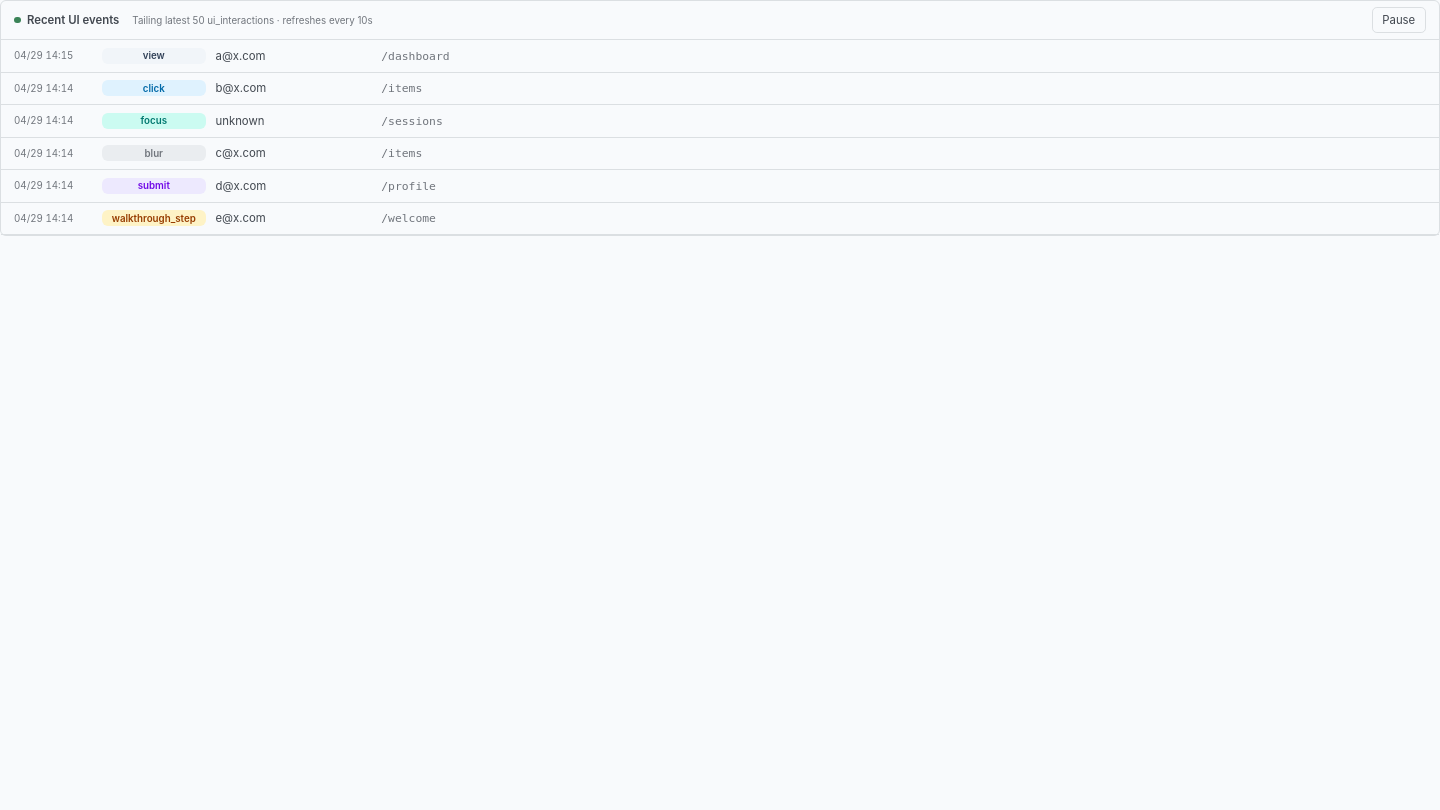
Test case: <UiRecentEventsFeed> › Test 8: row click opens PayloadViewerModal with title "UI interaction — {interaction_type}" and the full row payload
Click the button "04/29 14:14 click b@x.com /items".
click(44, 88)  # box [1,72,1439,105]
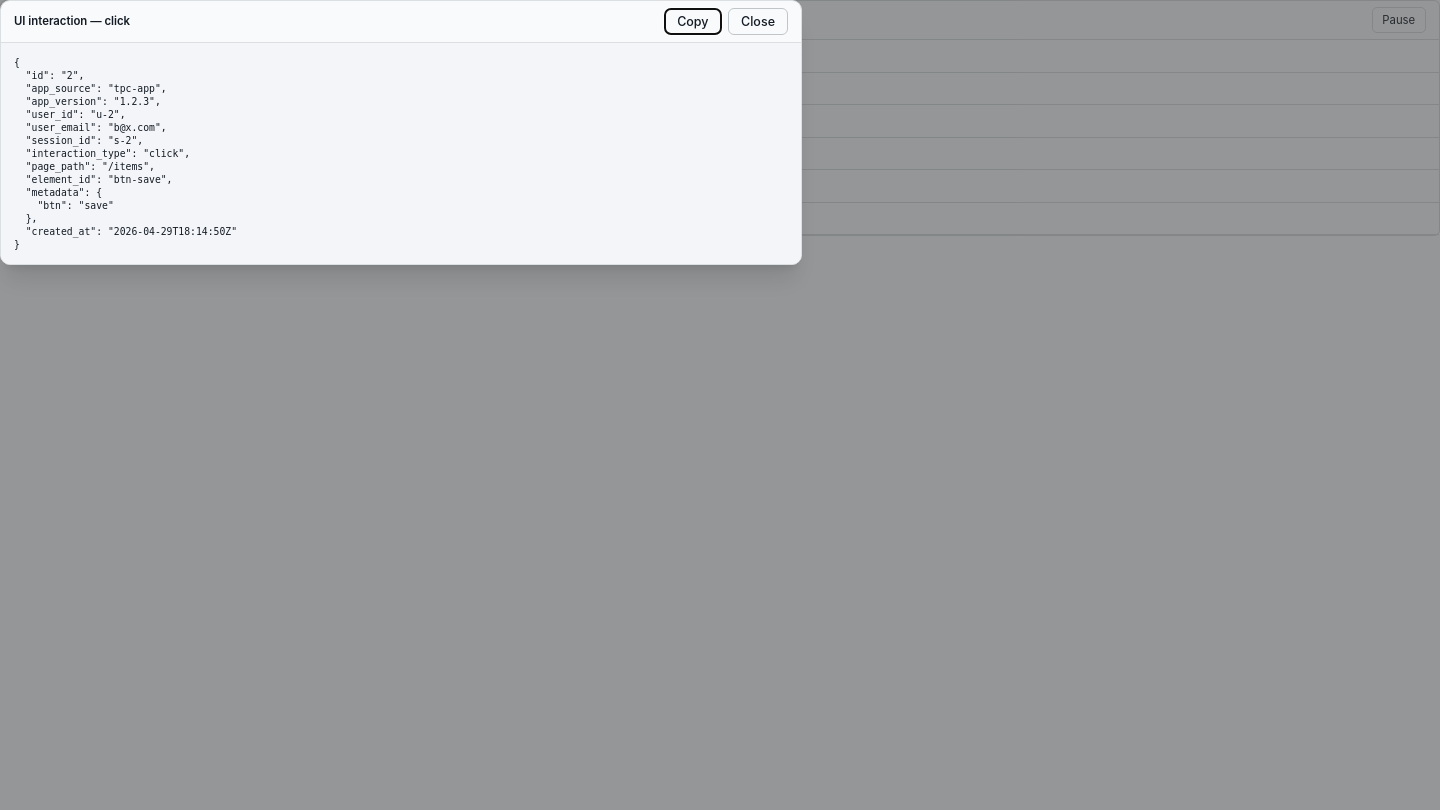
Now the dialog is shown, box [0,0,802,265]
Now the heading "UI interaction — click" is shown, box [14,13,130,30]
Now the text with test id "payload-modal-body" shows "btn-save", box [14,57,237,250]
